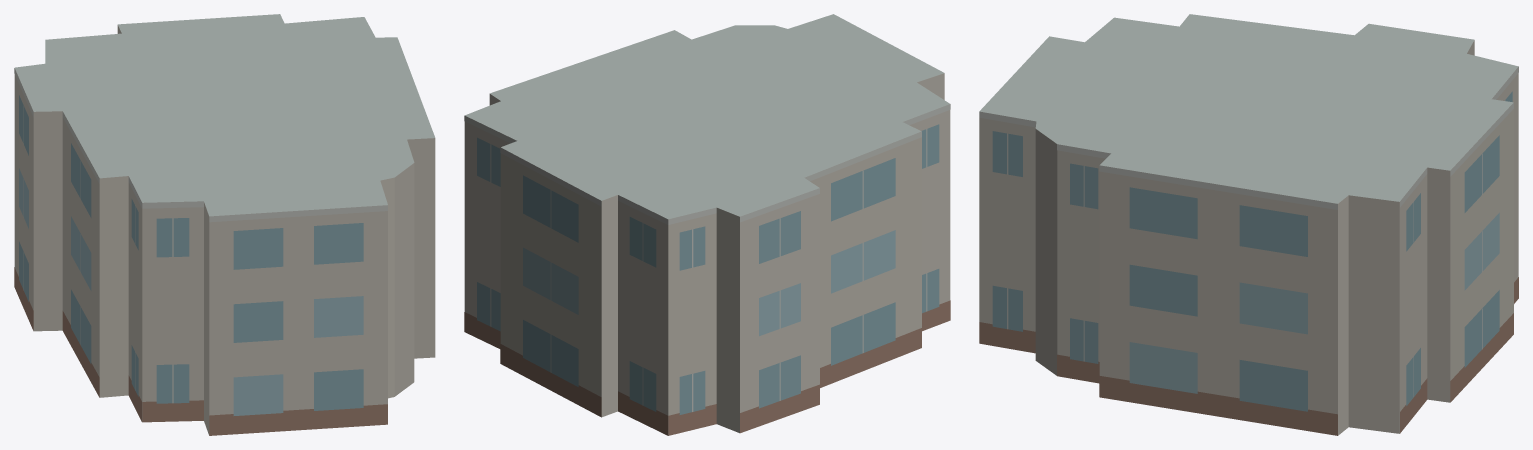
Rendered from survey-upis-32644566.glb.
3 views of the same model, side by side, from view 1: azimuth 30°, elevation 25°; view 2: azimuth 150°, elevation 25°; view 3: azimuth 270°, elevation 25° (orthographic). The views are drawn at different scales.
Visible parts, largest first — view 1: survey-upis-32644566.tmp; view 2: survey-upis-32644566.tmp; view 3: survey-upis-32644566.tmp.
Boxes of the visible parts, left/top/right/bottom form: survey-upis-32644566.tmp: left=14, top=14, right=435, bottom=435; survey-upis-32644566.tmp: left=464, top=14, right=950, bottom=435; survey-upis-32644566.tmp: left=979, top=14, right=1518, bottom=435.
Bounding box in the file's own units: 16.07 × 9.15 × 19.29.
